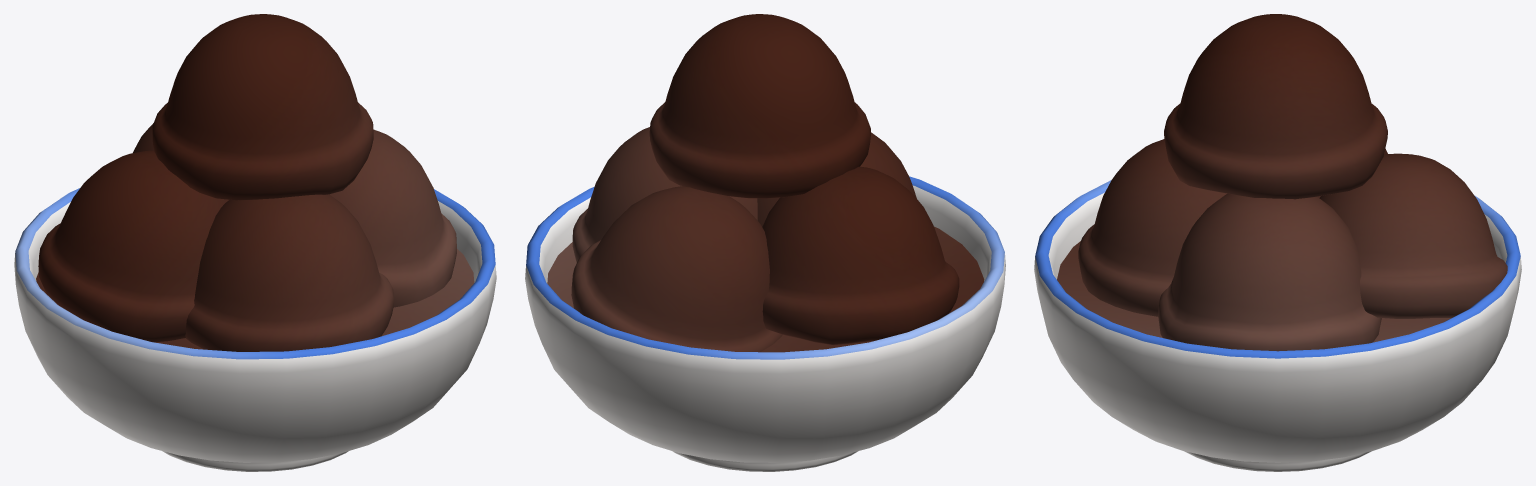
File: IceCreamChoc.glb
3 renders of one model, left to right at view 1: azimuth 30°, elevation 25°; view 2: azimuth 150°, elevation 25°; view 3: azimuth 270°, elevation 25°, orthographic.
Visible parts, largest first — view 1: IceCreamChoc; view 2: IceCreamChoc; view 3: IceCreamChoc.
Part boxes in pixels (box(x1,y1,x2,y2)): IceCreamChoc: box(14, 14, 496, 471); IceCreamChoc: box(525, 14, 1005, 471); IceCreamChoc: box(1034, 14, 1521, 471).
Size of the model in its own units: 0.2232 by 0.2052 by 0.2232.
1 material, 1 textured.
